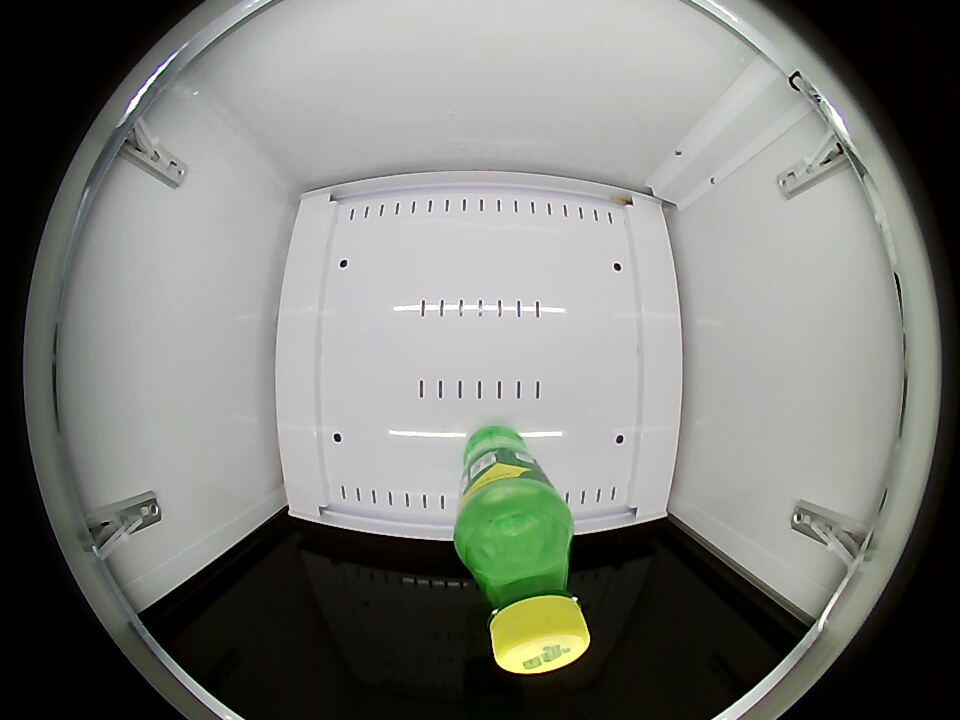xuebi-b: (459, 510, 589, 674)
